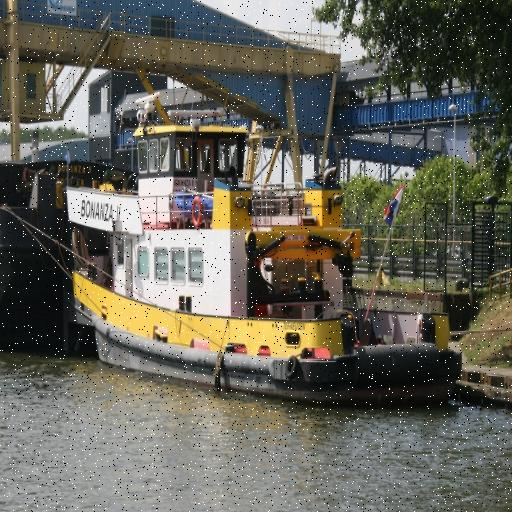tugboat: (52, 62, 468, 417)
